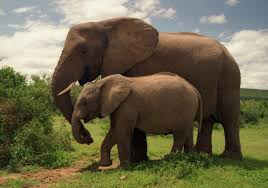Elephant: (68, 72, 201, 165)
